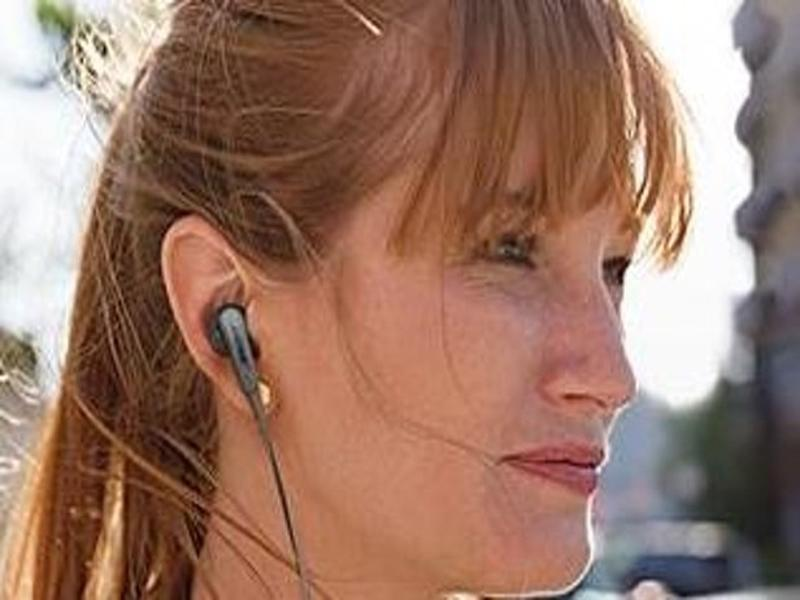headphone: (211, 303, 271, 423)
